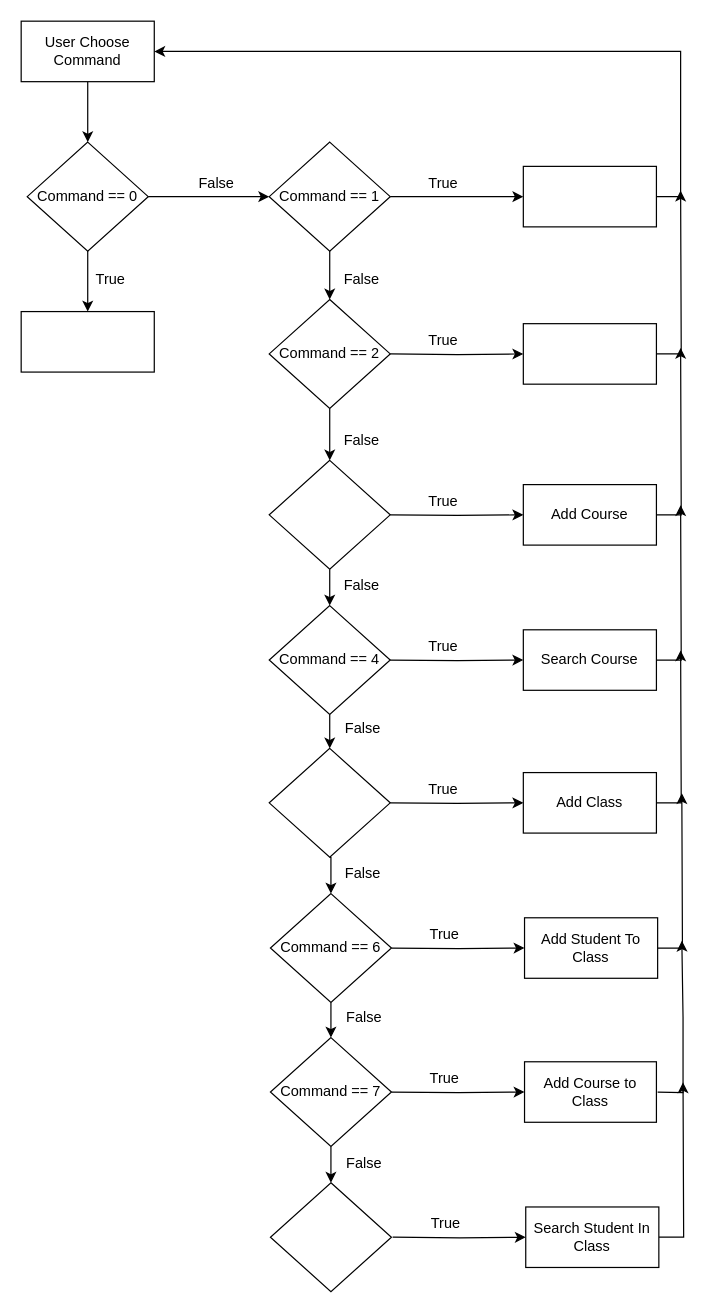
This 715x1313 diagram has some shape labels left out. The box of each missing label's shape, as (x1, y1, x2, y2) in pixels:
Add Student: (522, 165, 656, 227)
Command == 3: (268, 459, 390, 569)
Command == 5: (268, 747, 390, 857)
Command == 8: (269, 1182, 391, 1292)
Exit: (20, 310, 154, 372)
Search Student: (522, 322, 656, 384)
